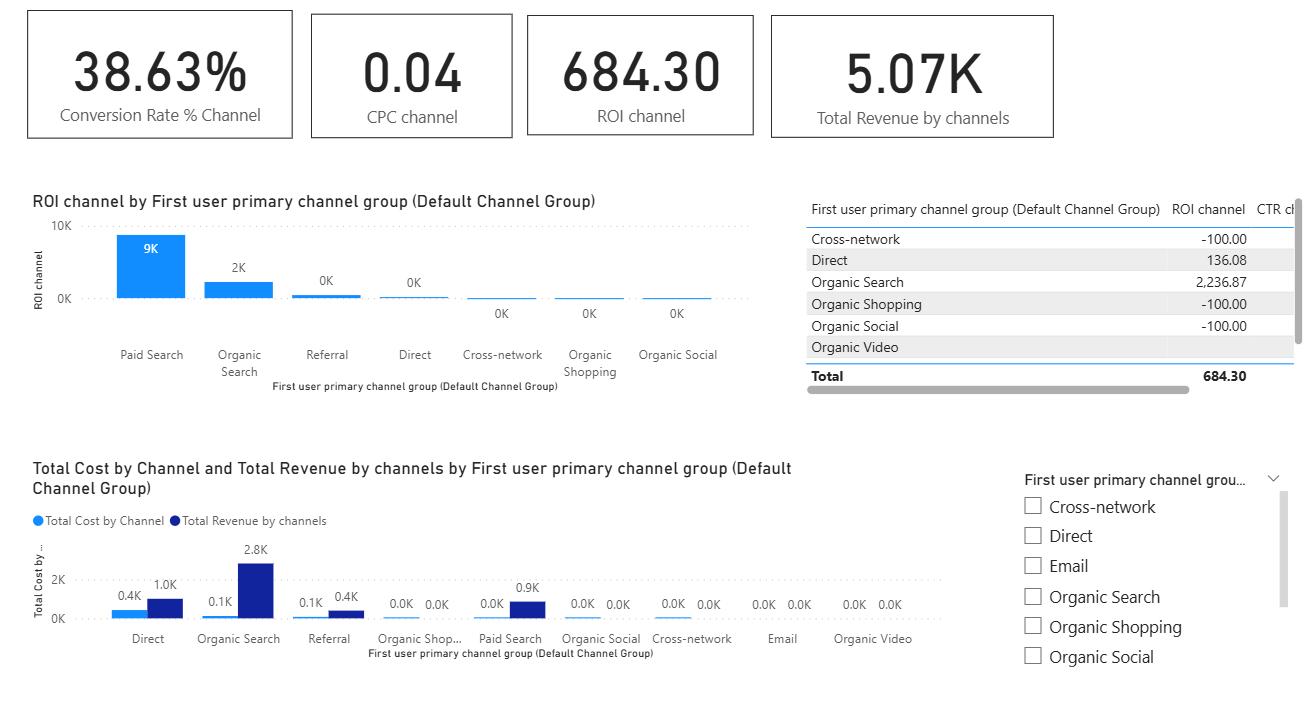

What the dashboard file says about the page in this screenshot:
{"tool":"powerbi","page":{"name":"Dashboard","canvas":[1280,720],"ordinal":0},"visuals":[{"type":"card","fields":{"Values":["Age.Conversion Rate %"]},"box":[30,28.6,255.7,124.3],"z":0},{"type":"card","fields":{"Values":["Age.CPC channel"]},"box":[304.3,32.9,194.3,120],"z":1000},{"type":"card","fields":{"Values":["Age.ROI channel"]},"box":[512.9,34.3,218.6,115.7],"z":2000},{"type":"card","fields":{"Values":["Age.Total Revenue by channels"]},"box":[747.1,34.3,272.9,118.6],"z":3000},{"type":"columnChart","fields":{"Y":["Age.ROI channel"],"Category":["Channel.First user primary channel group (Default Channel Group)"]},"box":[30.2,202.6,700.7,200.2],"z":4000},{"type":"clusteredColumnChart","fields":{"Y":["Age.Total Cost by Channel","Age.Total Revenue by channels"],"Category":["Channel.First user primary channel group (Default Channel Group)"]},"box":[30.2,460.7,891.3,200.2],"z":5000},{"type":"tableEx","fields":{"Values":["Channel.First user primary channel group (Default Channel Group)","Age.ROI channel","Age.CTR channel","Age.CPC channel"]},"box":[775.2,204.6,490.7,199.8],"z":6000},{"type":"slicer","fields":{"Values":["Channel.First user primary channel group (Default Channel Group)"]},"box":[979.3,469.1,272.6,200.2],"z":7000}]}

Visuals, with their boxes on the page's 1280x720 design canvas (x1, y1, x2, y2). These are canvas units, not pixel positions in the 1315x701 screenshot, which may show the page scaled, cropped or inside an application window:
card - Age.Conversion Rate %: box(30, 29, 286, 153)
card - Age.CPC channel: box(304, 33, 499, 153)
card - Age.ROI channel: box(513, 34, 732, 150)
card - Age.Total Revenue by channels: box(747, 34, 1020, 153)
columnChart - Age.ROI channel x Channel.First user primary channel group (Default Channel Group): box(30, 203, 731, 403)
clusteredColumnChart - Age.Total Cost by Channel x Age.Total Revenue by channels: box(30, 461, 922, 661)
tableEx - Channel.First user primary channel group (Default Channel Group) x Age.ROI channel: box(775, 205, 1266, 404)
slicer - Channel.First user primary channel group (Default Channel Group): box(979, 469, 1252, 669)
